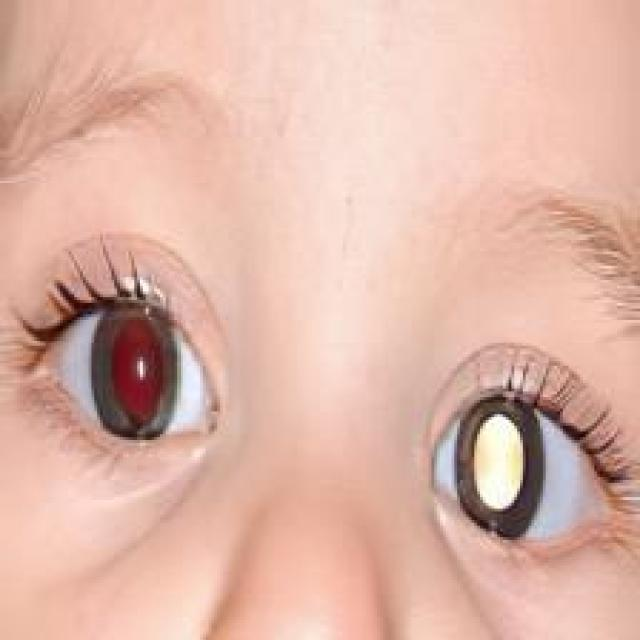reflexo-alterado: (405, 344, 616, 570)
reflexo-normal: (27, 252, 216, 476)
